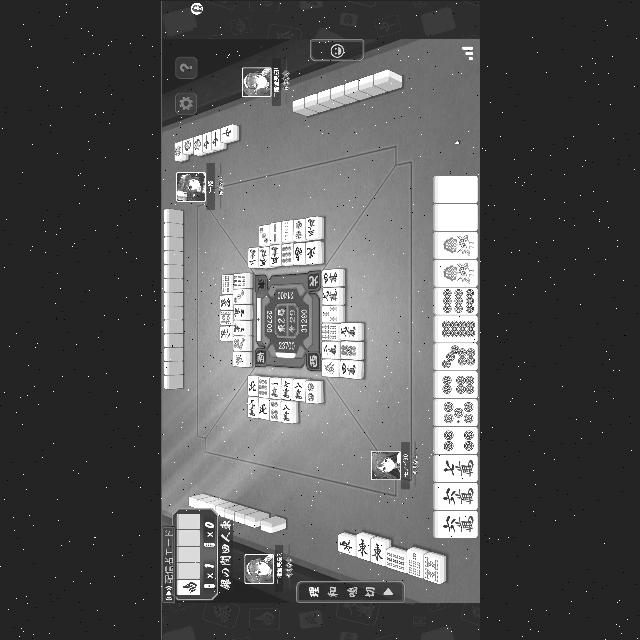1m: (270, 380, 278, 396)
1p: (192, 136, 200, 150), (173, 142, 180, 156), (183, 138, 191, 150)
1s: (442, 260, 474, 284), (442, 232, 474, 255)
2m: (322, 342, 336, 356), (248, 248, 256, 264), (219, 327, 229, 338)
2p: (306, 382, 314, 401), (294, 220, 302, 238)
2s: (270, 222, 278, 242), (283, 220, 289, 240)
3m: (306, 218, 314, 236), (232, 306, 244, 316), (232, 322, 244, 332)
3p: (258, 225, 268, 243), (232, 288, 244, 302)
3s: (322, 306, 336, 320)
4m: (323, 270, 337, 284), (340, 362, 356, 374), (220, 296, 230, 306)
4p: (442, 429, 473, 451)
5m: (270, 244, 278, 264), (259, 247, 267, 265)
5p: (442, 400, 474, 424)
6m: (441, 486, 473, 506), (441, 514, 474, 532)
6p: (441, 372, 474, 394), (270, 400, 278, 420)
6s: (320, 324, 336, 338)
7m: (442, 457, 474, 477), (282, 379, 290, 397)
7p: (441, 344, 475, 368), (232, 337, 244, 349)
7s: (408, 550, 420, 576)
8m: (280, 403, 290, 421), (294, 381, 302, 399)
8p: (441, 317, 475, 338), (340, 342, 356, 356)
8s: (424, 555, 438, 581), (220, 310, 230, 324)
9m: (339, 324, 355, 336), (322, 289, 336, 301), (248, 398, 256, 416)
9p: (441, 288, 474, 312), (282, 244, 290, 262), (258, 378, 266, 394)
9s: (386, 551, 402, 569), (233, 274, 244, 286), (222, 274, 228, 292)
chun: (220, 126, 232, 138), (210, 130, 218, 146), (202, 134, 210, 148)
haku: (440, 203, 474, 229), (440, 176, 474, 200)
hatsu: (322, 360, 336, 374), (234, 352, 242, 364)
nan: (181, 580, 197, 592), (294, 243, 302, 261)
pe: (305, 243, 315, 259), (258, 398, 266, 416), (248, 378, 256, 392)
tou: (356, 536, 368, 556), (371, 541, 383, 561), (338, 538, 352, 552)
